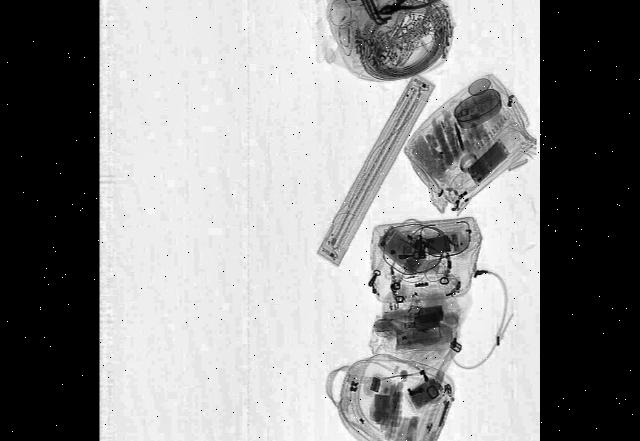Pliers: (376, 0, 439, 21)
